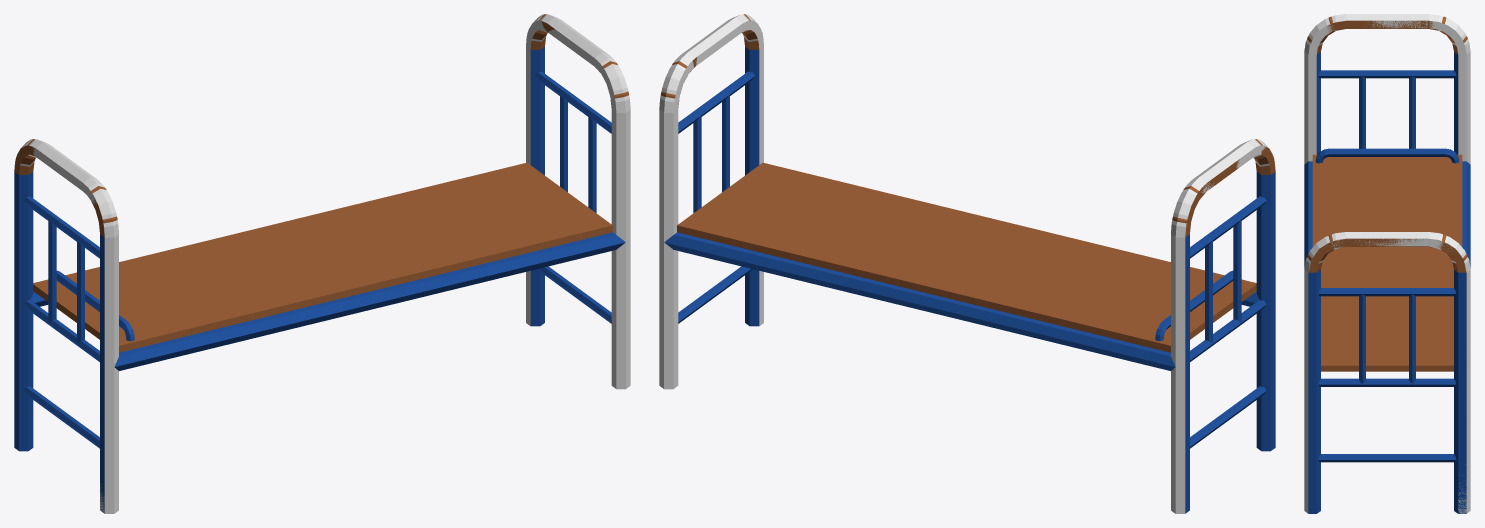
The model's file is Bed.fbx.
3 views of the same model, side by side, from view 1: azimuth 30°, elevation 25°; view 2: azimuth 150°, elevation 25°; view 3: azimuth 270°, elevation 25° (orthographic). The views are drawn at different scales.
Visible parts, largest first — view 1: Cube, Cylinder.002, Cylinder.005, Cylinder.001, Cylinder.006, Cylinder.008, Cylinder.003, Cylinder.010, Cylinder.009, Cylinder.004, Cylinder.013, Cylinder.012 (+1 smaller); view 2: Cube, Cylinder.002, Cylinder.005, Cylinder, Cylinder.006, Cylinder.008, Cylinder.003, Cylinder.012, Cylinder.009, Cylinder.004, Cylinder.011, Cylinder.010 (+1 smaller); view 3: Cube, Cylinder.005, Cylinder.002, Cylinder.014, Cylinder.009, Cylinder.003, Cylinder.006, Cylinder.007, Cylinder, Cylinder.001, Cylinder.011, Cylinder.013 (+2 smaller).
Part boxes in pixels (<box>): Cube: <box>33,162,612,352</box>; Cylinder.002: <box>14,14,630,513</box>; Cylinder.005: <box>14,14,629,513</box>; Cylinder.001: <box>114,232,625,370</box>; Cylinder.006: <box>535,71,611,133</box>; Cylinder.008: <box>23,386,99,448</box>; Cylinder.003: <box>23,196,99,258</box>; Cylinder.010: <box>48,219,56,322</box>; Cylinder.009: <box>537,266,611,323</box>; Cylinder.004: <box>23,300,99,361</box>; Cylinder.013: <box>588,115,596,212</box>; Cylinder.012: <box>77,241,84,343</box>; Cube: <box>677,162,1256,352</box>; Cylinder.002: <box>659,14,1275,513</box>; Cylinder.005: <box>660,14,1275,513</box>; Cylinder: <box>664,232,1175,370</box>; Cylinder.006: <box>678,71,754,133</box>; Cylinder.008: <box>1190,386,1266,448</box>; Cylinder.003: <box>1190,196,1266,258</box>; Cylinder.012: <box>1233,219,1241,322</box>; Cylinder.009: <box>678,266,752,323</box>; Cylinder.004: <box>1190,300,1266,361</box>; Cylinder.011: <box>693,115,701,212</box>; Cylinder.010: <box>1205,241,1212,343</box>; Cube: <box>1312,154,1462,371</box>; Cylinder.005: <box>1307,16,1467,513</box>; Cylinder.002: <box>1304,14,1470,513</box>; Cylinder.014: <box>1315,148,1459,163</box>; Cylinder.009: <box>1318,454,1456,462</box>; Cylinder.003: <box>1318,70,1456,78</box>; Cylinder.006: <box>1318,288,1456,296</box>; Cylinder.007: <box>1318,378,1456,386</box>; Cylinder: <box>1462,161,1470,267</box>; Cylinder.001: <box>1304,161,1312,267</box>; Cylinder.011: <box>1409,294,1415,384</box>; Cylinder.013: <box>1359,294,1365,384</box>.
Bounding box in the file's own units: 319 × 185 × 100.
